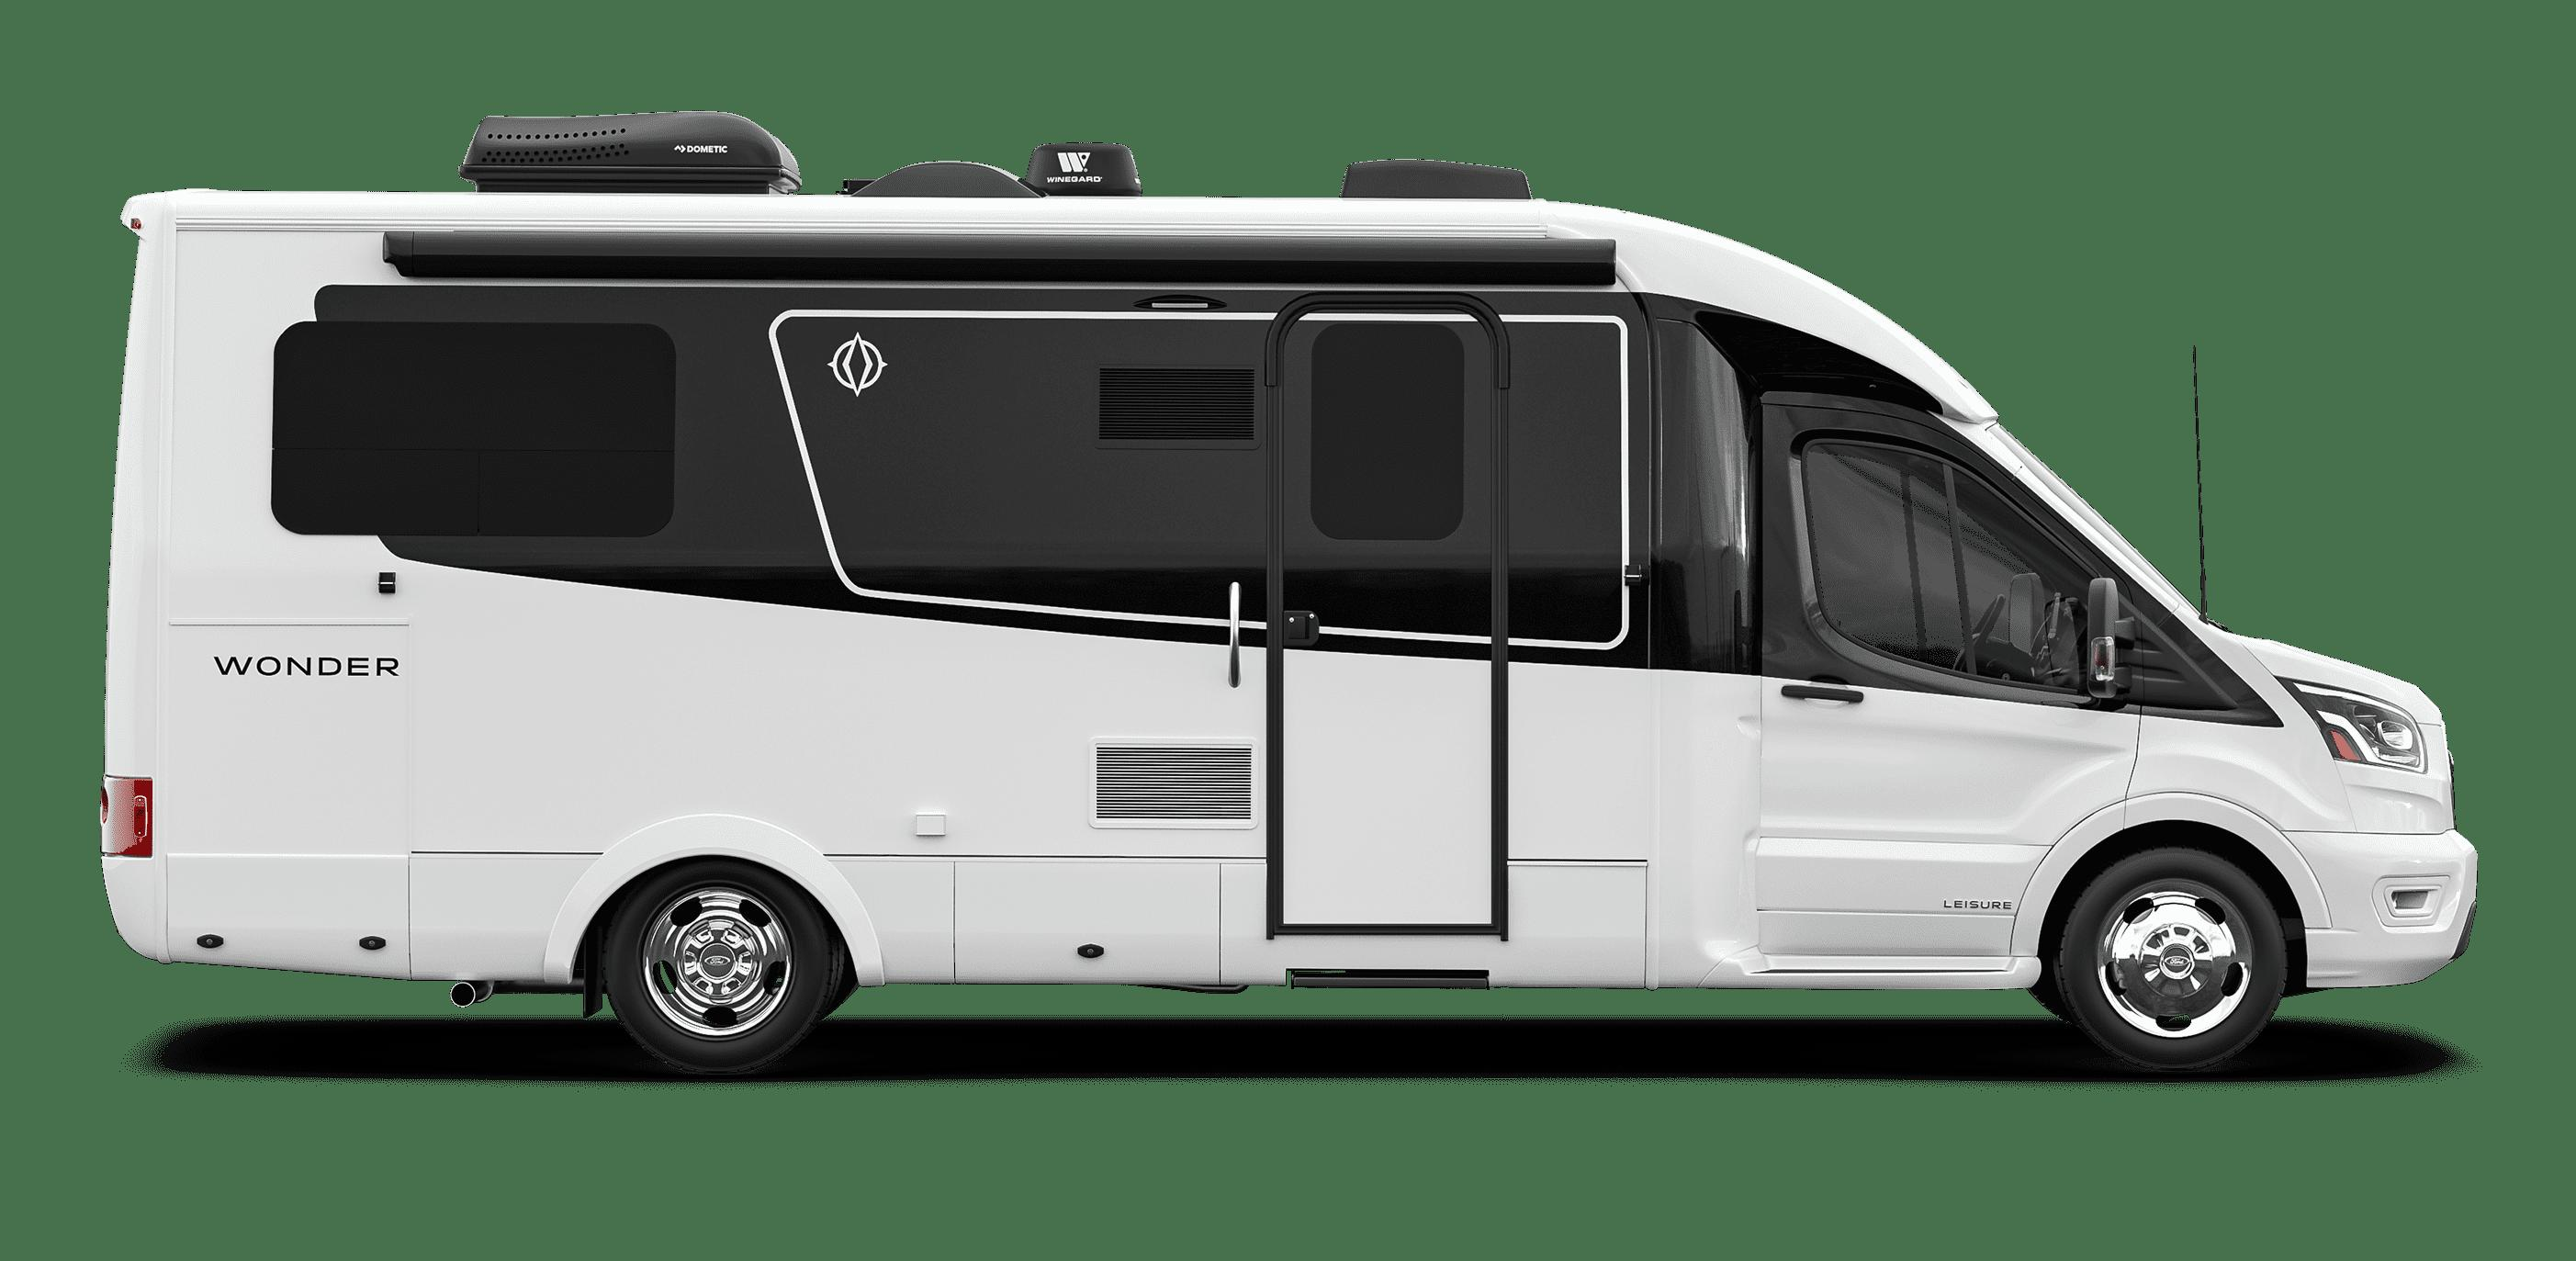car: (113, 164, 2456, 1064)
